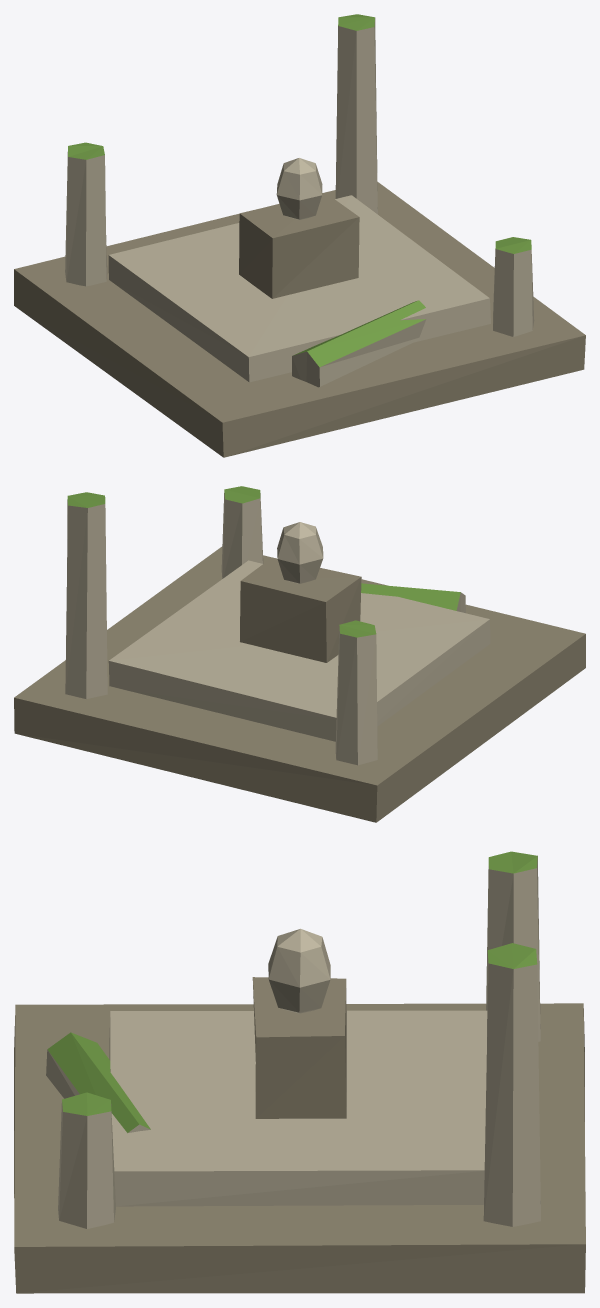
Rendered from world_landmark_ruins_altar.obj.
3 renders of one model, top to bottom at view 1: azimuth 30°, elevation 25°; view 2: azimuth 150°, elevation 25°; view 3: azimuth 270°, elevation 25°, orthographic. The views are drawn at different scales.
Parts seen in each view (by area): view 1: world_landmark_ruins_altar; view 2: world_landmark_ruins_altar; view 3: world_landmark_ruins_altar.
Part boxes in pixels (x1=…): world_landmark_ruins_altar: x1=14, y1=14, x2=585, y2=457; world_landmark_ruins_altar: x1=14, y1=486, x2=585, y2=822; world_landmark_ruins_altar: x1=14, y1=851, x2=585, y2=1293.
Bounding box in the file's own units: 15.04 × 8.98 × 15.06.
